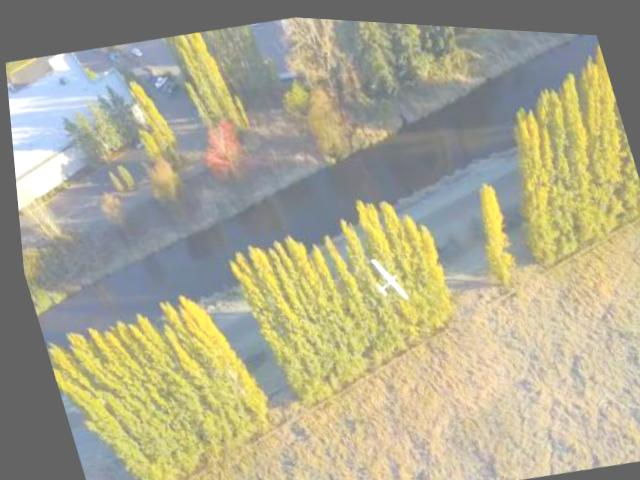uav: (362, 247, 404, 298)
